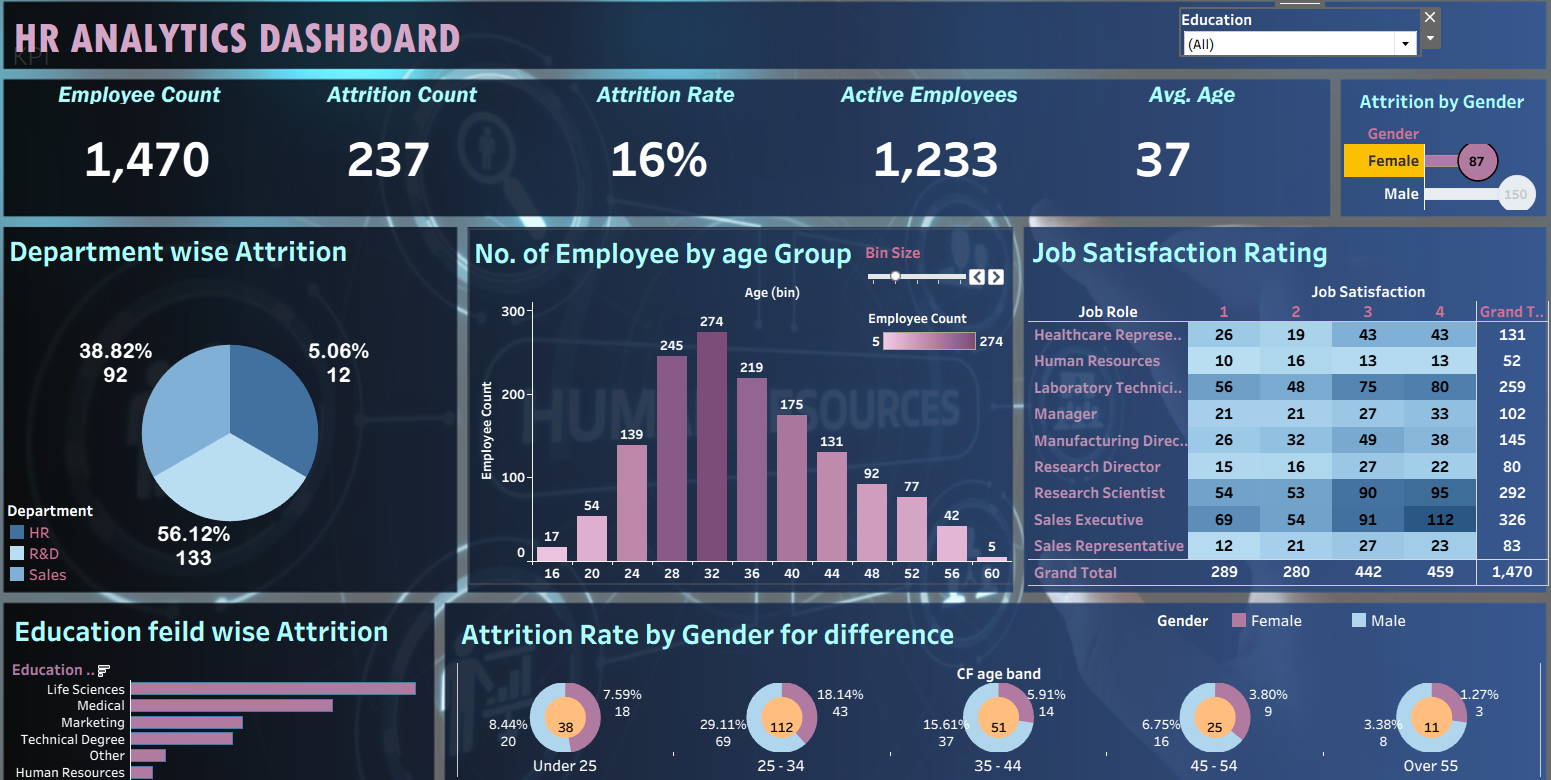

What the dashboard file says about the page in this screenshot:
{"tool":"tableau","page":{"name":"HR Analytics","canvas":[1580,900],"ordinal":0},"visuals":[{"type":"image","param":"Image/HR background.pptx (1).png","box":[8,8,1564,884]},{"type":"text","box":[25,20,486,70]},{"type":"filter","title":"Department wise Attrition","param":"[federated.1d9n6hl1bc523n18a82f60bau8jp].[none:Education:nk]","box":[1196,26,239,46]},{"type":"worksheet","title":"KPI","mark":"Automatic","box":[23,51,1316,176]},{"type":"worksheet","title":"Attrition by Gender","mark":"Automatic","rows":["Gender"],"cols":["Calculation_767300818181296128","Calculation_767300818181296128"],"box":[1359,101,196,126]},{"type":"worksheet","title":"Department wise Attrition","mark":"Pie","box":[20,245,450,358]},{"type":"worksheet","title":"Job Satisfaction Rating","mark":"Square","rows":["Job Role"],"cols":["Job Satisfaction"],"box":[1043,246,521,357]},{"type":"worksheet","title":"No. of Employee by age Group","mark":"Automatic","rows":["Employee Count"],"cols":["Age (bin)"],"box":[485,247,542,353]},{"type":"parameter","param":"[Parameters].[Parameter 1]","box":[880,259,142,63]},{"type":"legend","title":"No. of Employee by age Group","param":"[federated.1d9n6hl1bc523n18a82f60bau8jp].[sum:Employee Count:qk]","box":[883,326,140,79]},{"type":"legend","title":"Department wise Attrition","param":"[federated.1d9n6hl1bc523n18a82f60bau8jp].[none:Department:nk]","box":[22,517,140,85]},{"type":"worksheet","title":"Education feild wise Attrition","mark":"Automatic","rows":["Education Field"],"cols":["Calculation_767300818181296128"],"box":[25,625,421,172]},{"type":"legend","title":"Attrition Rate by Gender for difference","param":"[federated.1d9n6hl1bc523n18a82f60bau8jp].[none:Gender:nk]","box":[1172,627,378,32]},{"type":"worksheet","title":"Attrition Rate by Gender for difference","mark":"Pie","rows":["Calculation_767300818242973705","Calculation_767300818242973705"],"cols":["CF_age band"],"box":[472,628,1084,167]}]}

Visuals, with their boxes on the page's 1580x900 design canvas (x1, y1, x2, y2). These are canvas units, not pixel positions in the 1551x780 screenshot, which may show the page scaled, cropped or inside an application window:
image: [x1=8, y1=8, x2=1572, y2=892]
text: [x1=25, y1=20, x2=511, y2=90]
"Department wise Attrition" filter: [x1=1196, y1=26, x2=1435, y2=72]
"KPI" worksheet: [x1=23, y1=51, x2=1339, y2=227]
"Attrition by Gender" worksheet: [x1=1359, y1=101, x2=1555, y2=227]
"Department wise Attrition" worksheet (Pie marks): [x1=20, y1=245, x2=470, y2=603]
"Job Satisfaction Rating" worksheet (Square marks): [x1=1043, y1=246, x2=1564, y2=603]
"No. of Employee by age Group" worksheet: [x1=485, y1=247, x2=1027, y2=600]
parameter: [x1=880, y1=259, x2=1022, y2=322]
"No. of Employee by age Group" legend: [x1=883, y1=326, x2=1023, y2=405]
"Department wise Attrition" legend: [x1=22, y1=517, x2=162, y2=602]
"Education feild wise Attrition" worksheet: [x1=25, y1=625, x2=446, y2=797]
"Attrition Rate by Gender for difference" legend: [x1=1172, y1=627, x2=1550, y2=659]
"Attrition Rate by Gender for difference" worksheet (Pie marks): [x1=472, y1=628, x2=1556, y2=795]
